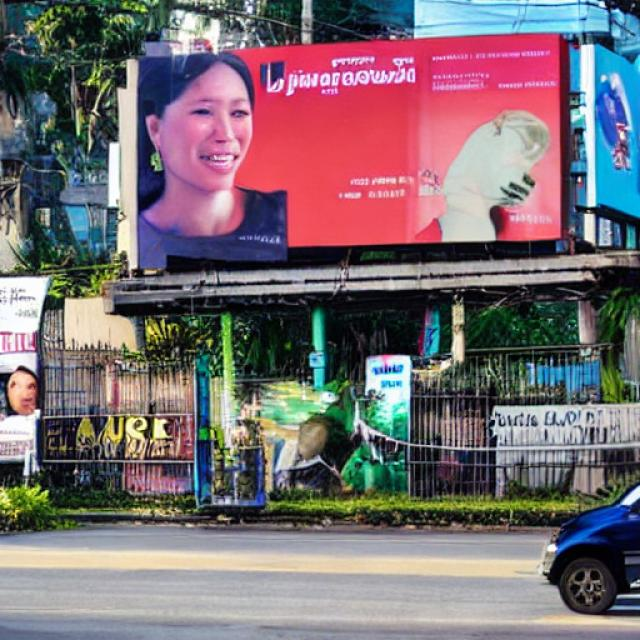Billboard: (137, 28, 567, 272)
